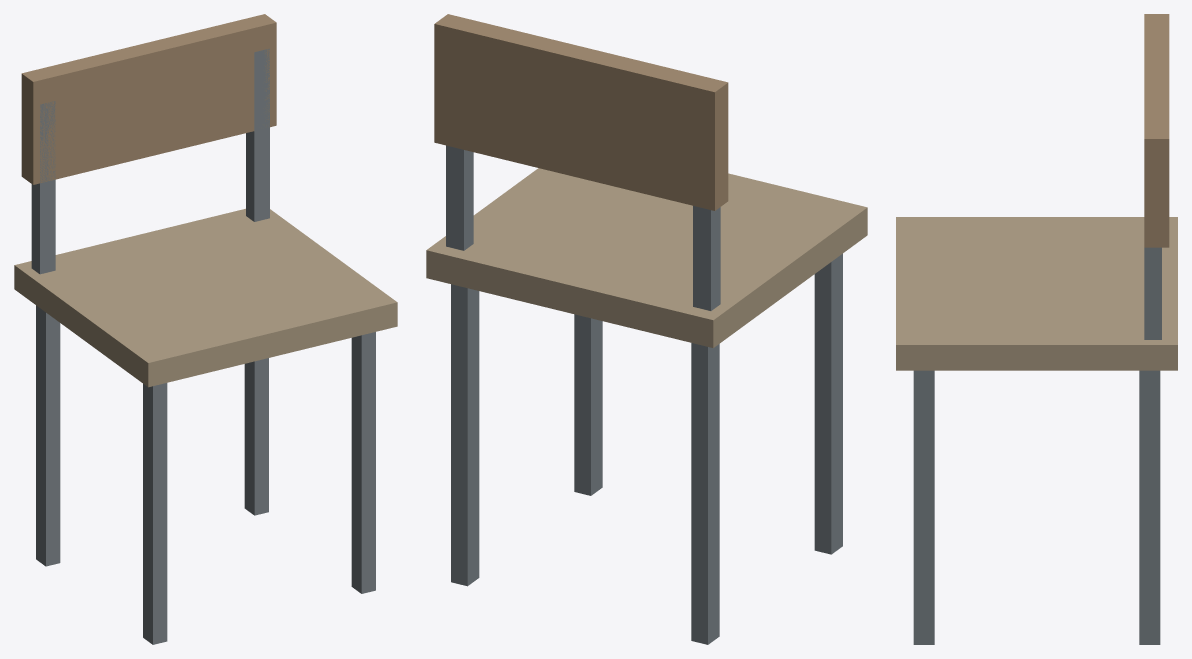
The model's file is ART-003.glb.
The picture shows the model from 3 angles, left to right: view 1: azimuth 30°, elevation 25°; view 2: azimuth 150°, elevation 25°; view 3: azimuth 270°, elevation 25°; orthographic projection. The views are drawn at different scales.
Visible parts, largest first — view 1: 004_Seat_plywood, 007_Backrest, 000_Tube_legs, 002_Tube_legs, 001_Tube_legs, 003_Tube_legs, 006_Chair_back_uprights, 005_Chair_back_uprights; view 2: 004_Seat_plywood, 007_Backrest, 001_Tube_legs, 003_Tube_legs, 000_Tube_legs, 002_Tube_legs, 005_Chair_back_uprights, 006_Chair_back_uprights; view 3: 004_Seat_plywood, 007_Backrest, 002_Tube_legs, 003_Tube_legs, 006_Chair_back_uprights.
Part boxes in pixels (bbox=[...]): 004_Seat_plywood: bbox=[14, 208, 397, 387]; 007_Backrest: bbox=[21, 14, 276, 184]; 000_Tube_legs: bbox=[143, 383, 167, 644]; 002_Tube_legs: bbox=[351, 332, 375, 593]; 001_Tube_legs: bbox=[36, 305, 60, 566]; 003_Tube_legs: bbox=[244, 358, 268, 515]; 006_Chair_back_uprights: bbox=[246, 48, 269, 221]; 005_Chair_back_uprights: bbox=[31, 101, 55, 274]; 004_Seat_plywood: bbox=[426, 168, 867, 347]; 007_Backrest: bbox=[434, 14, 728, 210]; 001_Tube_legs: bbox=[691, 343, 719, 644]; 003_Tube_legs: bbox=[451, 284, 479, 586]; 000_Tube_legs: bbox=[814, 253, 842, 554]; 002_Tube_legs: bbox=[574, 314, 602, 495]; 005_Chair_back_uprights: bbox=[693, 206, 720, 310]; 006_Chair_back_uprights: bbox=[446, 145, 473, 250]; 004_Seat_plywood: bbox=[896, 217, 1177, 370]; 007_Backrest: bbox=[1144, 14, 1169, 247]; 002_Tube_legs: bbox=[913, 370, 934, 644]; 003_Tube_legs: bbox=[1139, 370, 1160, 644]; 006_Chair_back_uprights: bbox=[1144, 247, 1161, 339].
Bounding box in the file's own units: 0.43 × 0.8 × 0.4.
